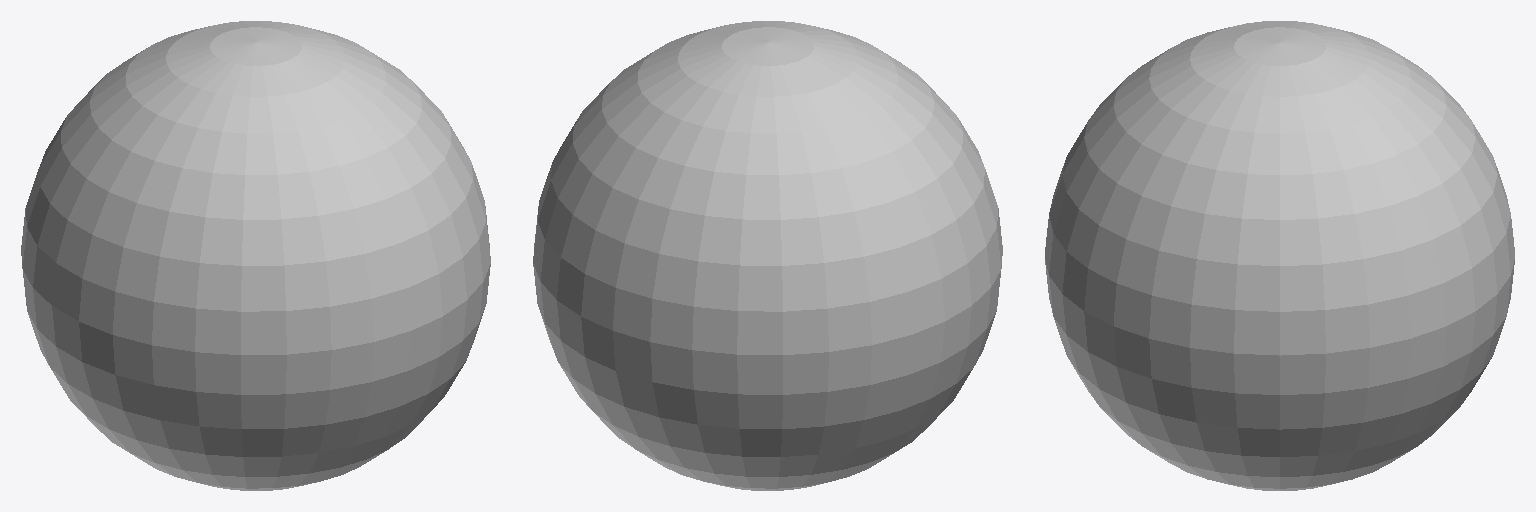
File: esfera.obj
3 renders of one model, left to right at view 1: azimuth 30°, elevation 25°; view 2: azimuth 150°, elevation 25°; view 3: azimuth 270°, elevation 25°, orthographic.
Visible parts, largest first — view 1: Esfera; view 2: Esfera; view 3: Esfera.
Boxes of the visible parts, box(x1,y1,x2,y2) form: Esfera: box(21, 21, 490, 490); Esfera: box(533, 21, 1002, 490); Esfera: box(1045, 21, 1514, 490).
Size of the model in its own units: 57.64 by 57.64 by 57.64.